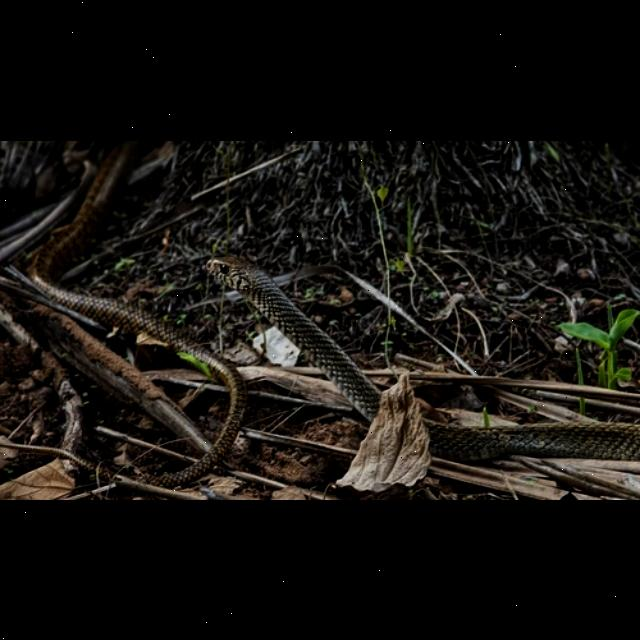snake: (221, 253, 639, 461)
